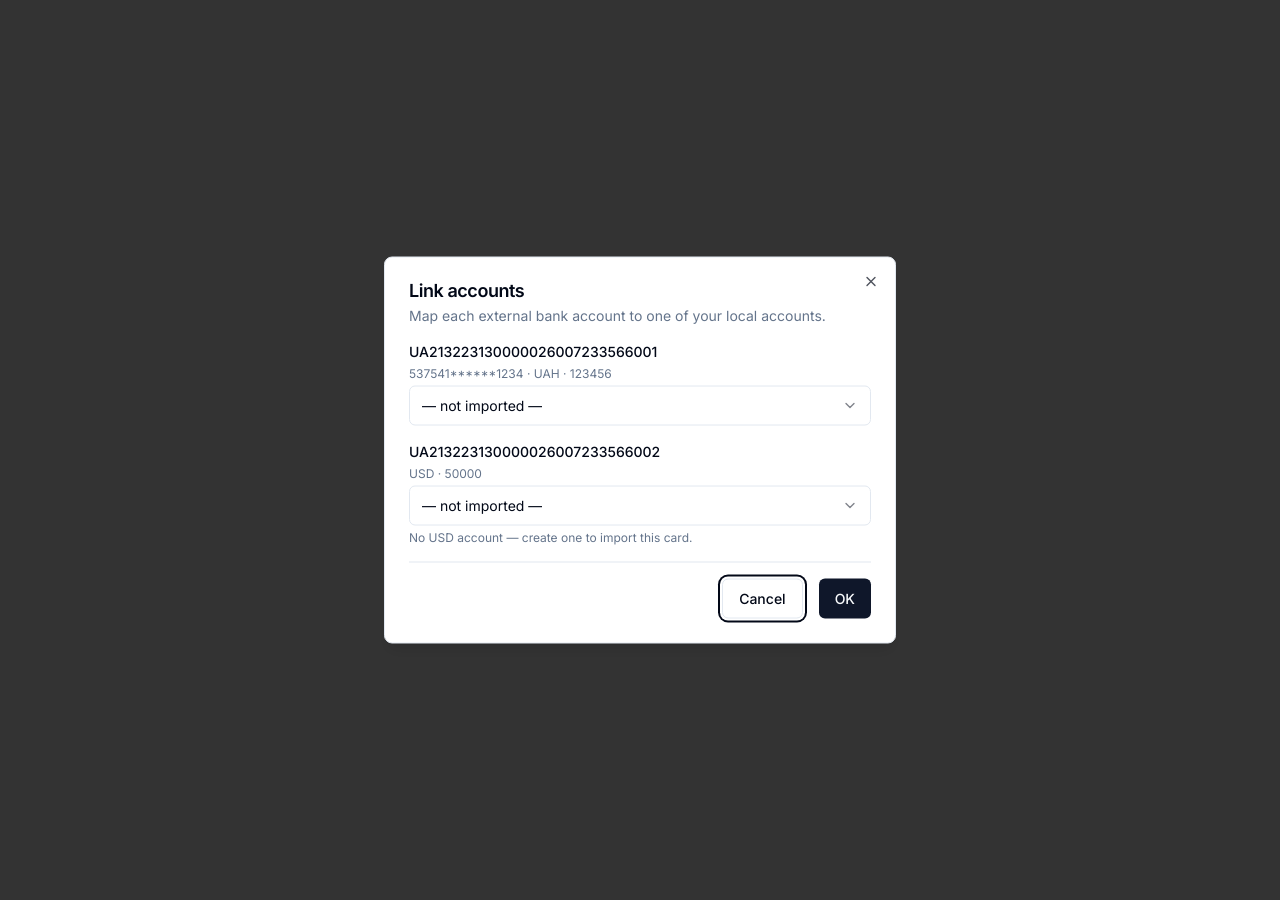
Scenario: LinkAccountsDialog › does not offer a bank account already linked by another connection
The width and height of the screenshot is (1280, 900).
Click the dropdown named "UA213223130000026007233566001". click: [482, 405]
box: [409,386,871,426]
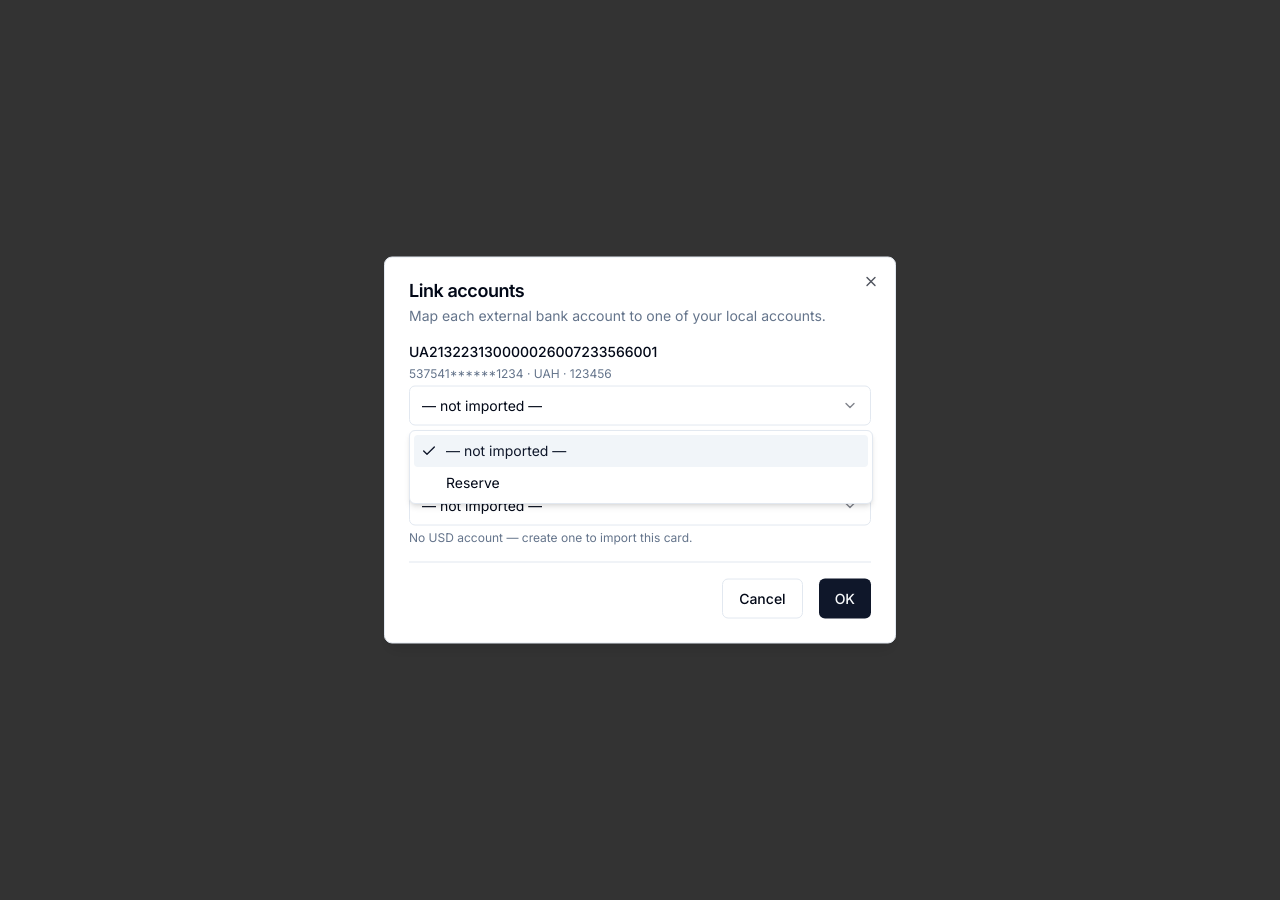
Result: the option "Reserve" is shown at [446,474,500,491]
